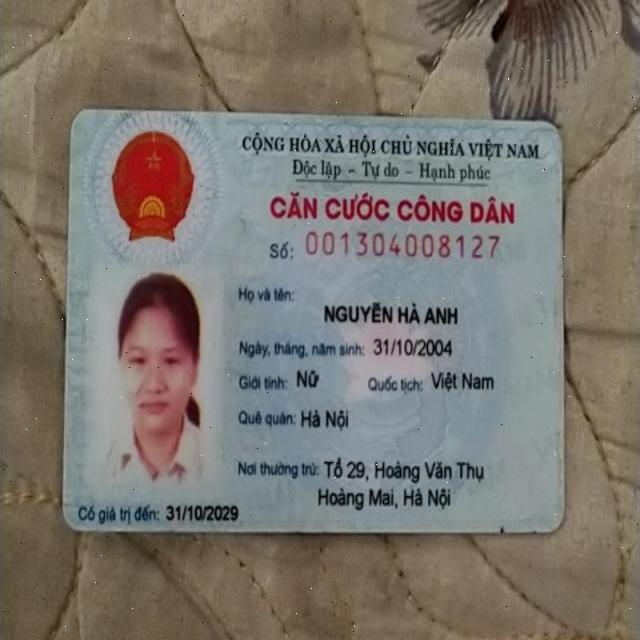current_place: (320, 455, 487, 484), (307, 485, 459, 514)
dob: (372, 333, 457, 365)
expire_date: (165, 502, 243, 529)
gender: (294, 362, 325, 391)
id: (305, 228, 501, 266)
name: (321, 298, 463, 330)
nationality: (428, 366, 498, 396)
origin_place: (294, 407, 357, 437)
